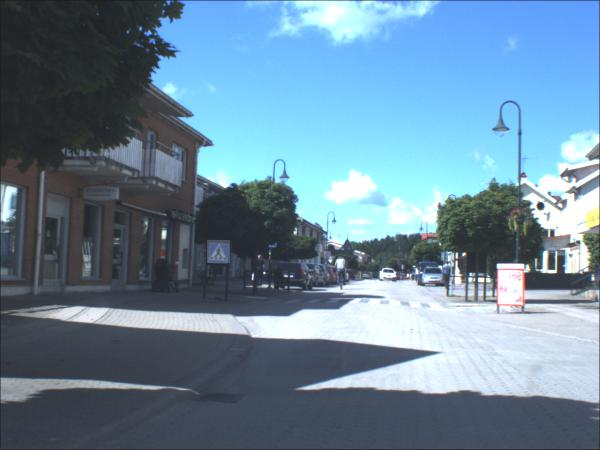NO_PARKING: (324, 252, 332, 260)
PEDESTRIAN_CROSSING: (207, 241, 231, 265)
